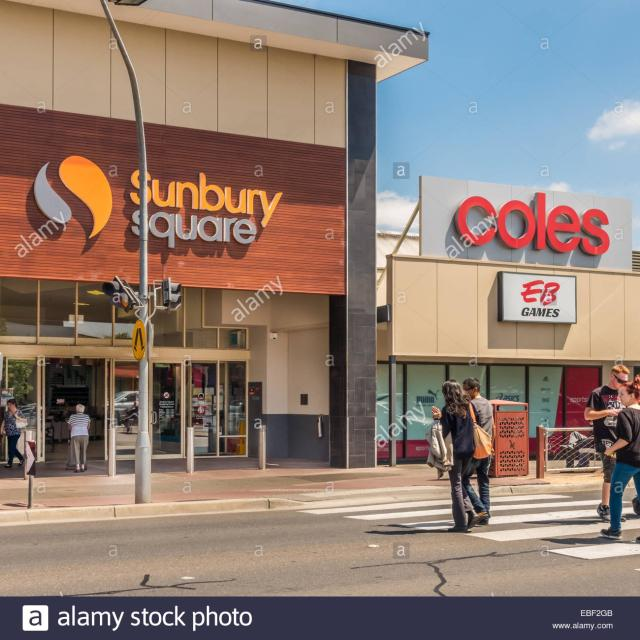body: (430, 378, 480, 533), (584, 363, 632, 523), (600, 380, 640, 540), (462, 378, 496, 524), (0, 397, 29, 469), (360, 519, 468, 536), (559, 419, 596, 468), (66, 402, 90, 473), (518, 511, 607, 527), (536, 534, 634, 547), (119, 396, 139, 433)
